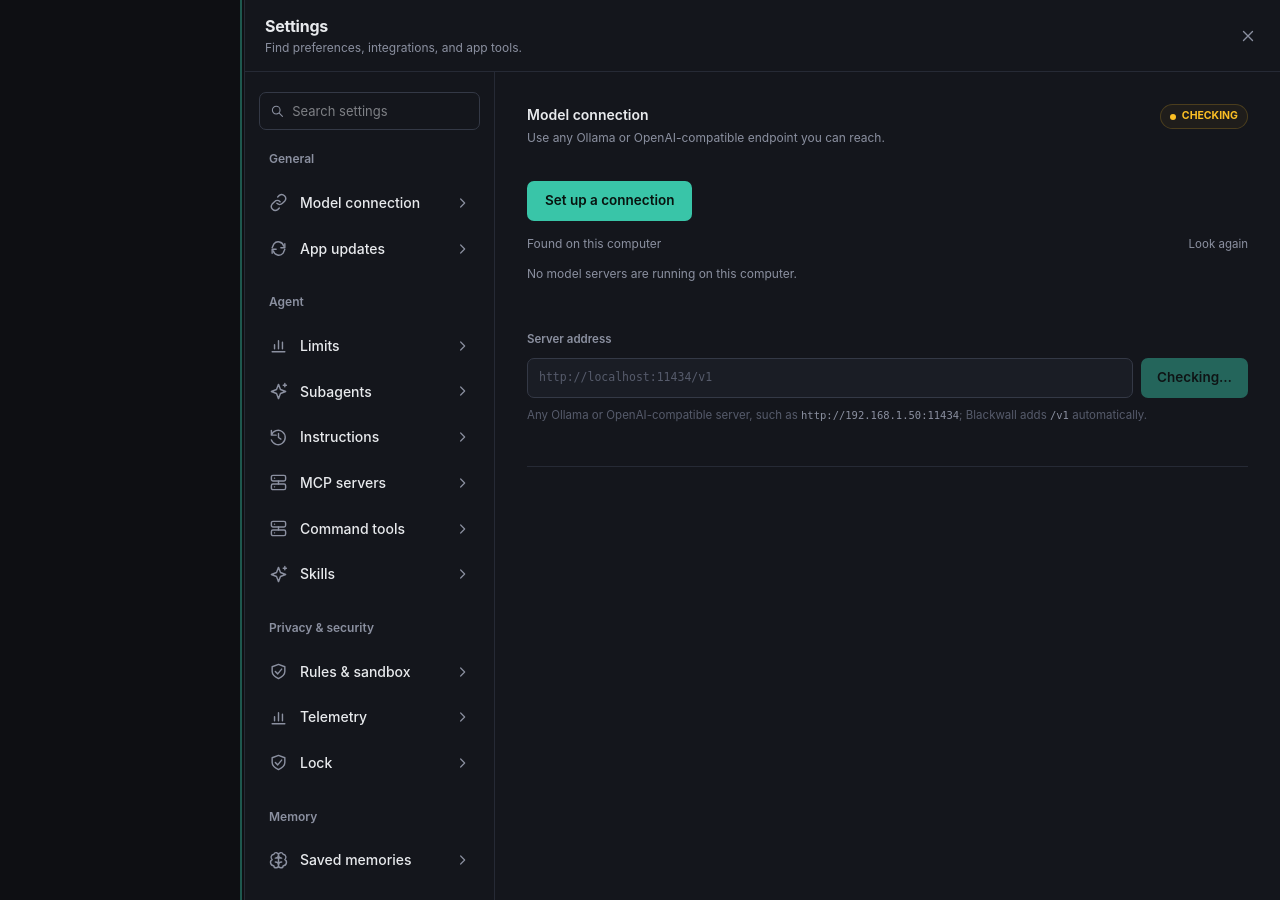
Test case: SettingsDialog › opens the owner rules under Rules & sandbox, showing where command tools run
What coordinates should you click on to do the following:
click the button "Rules & sandbox"
I would click on:
 (370, 672)
Its box is [259,649,480,694].
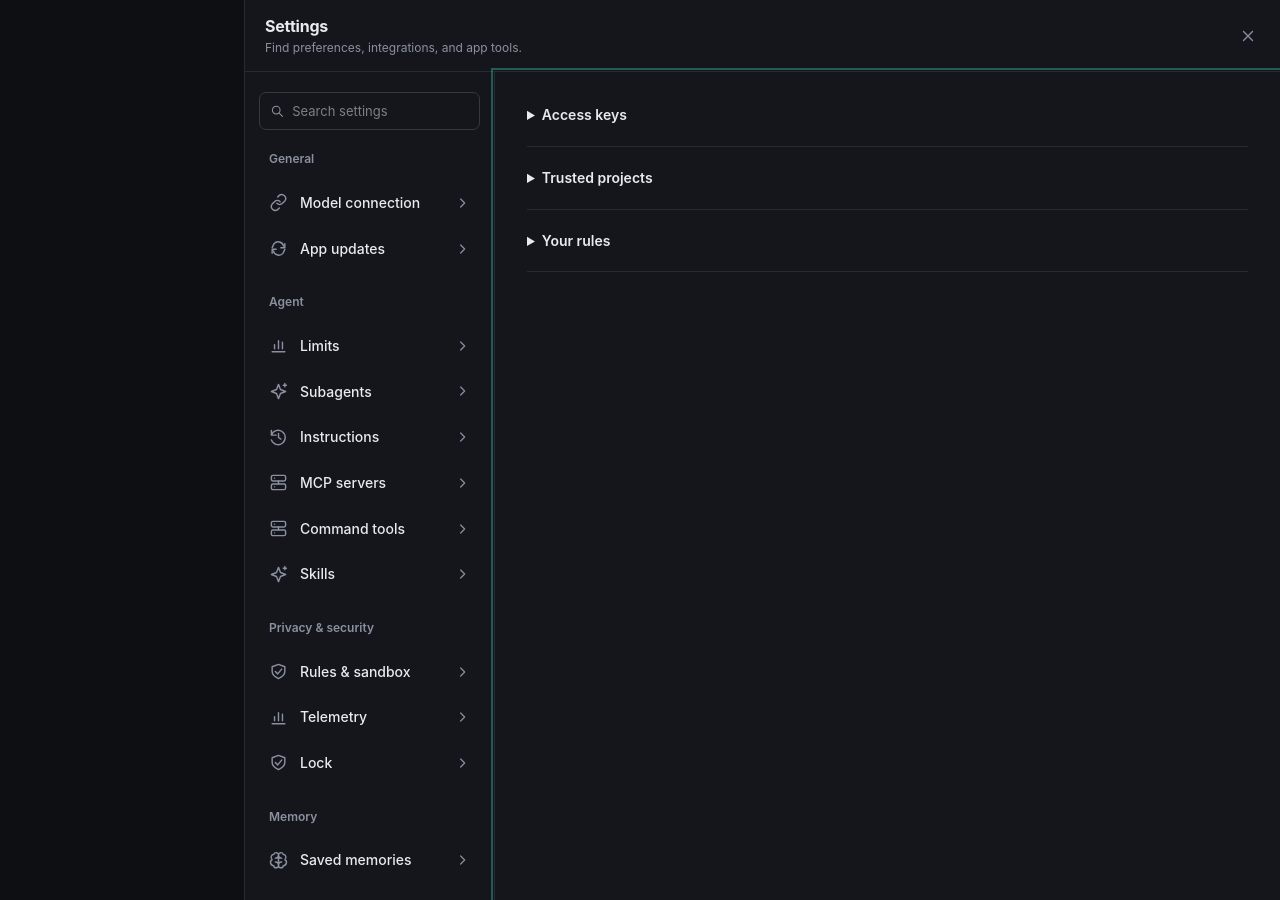
What coordinates should you click on to do the following:
click the heading "Your rules"
I would click on:
 (576, 240)
Its box is [542,232,610,249].
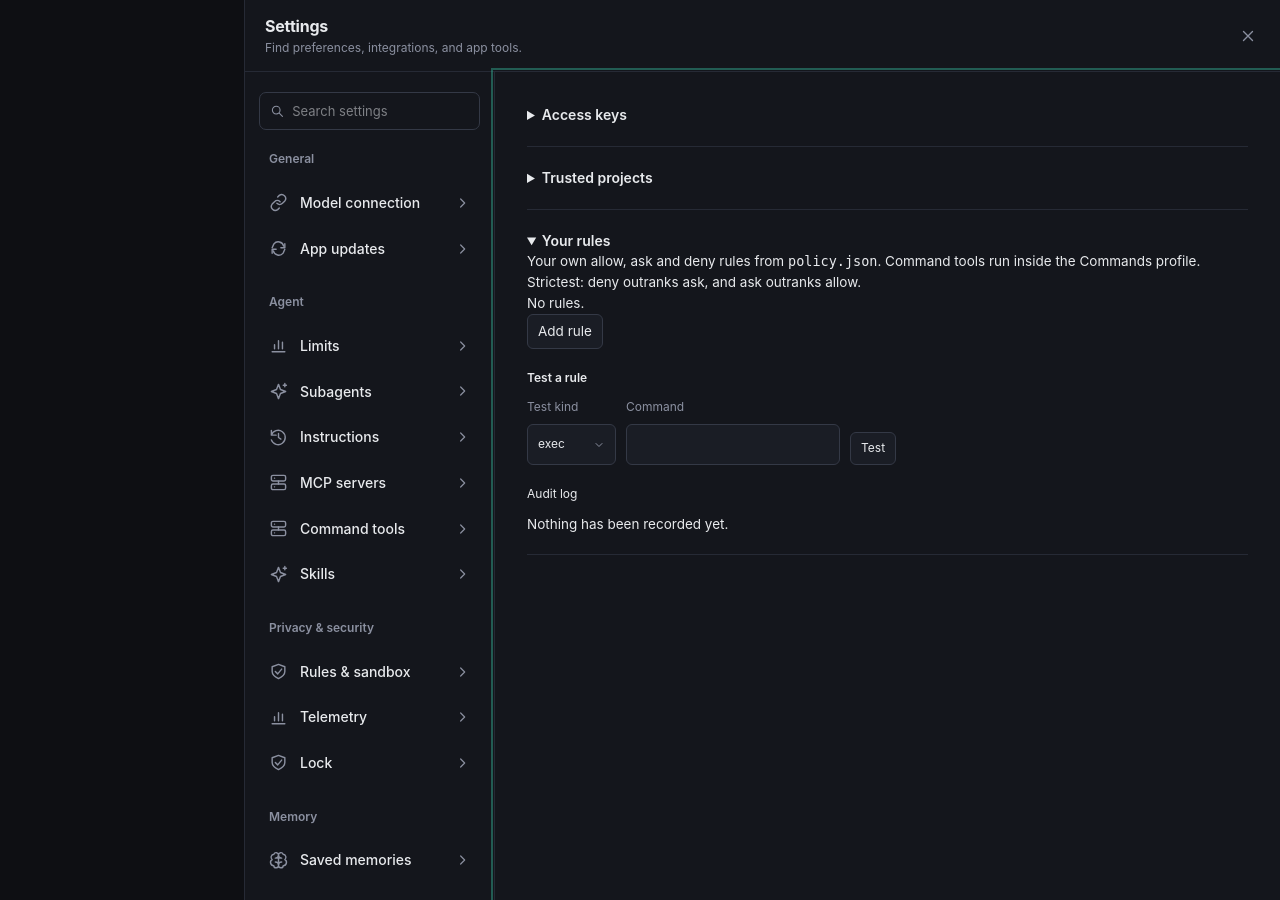
Check: the text "No rules." is shown, box [527,295,584,311]
Check: the text "inside the Commands profile" is shown, box [877,254,1200,270]
